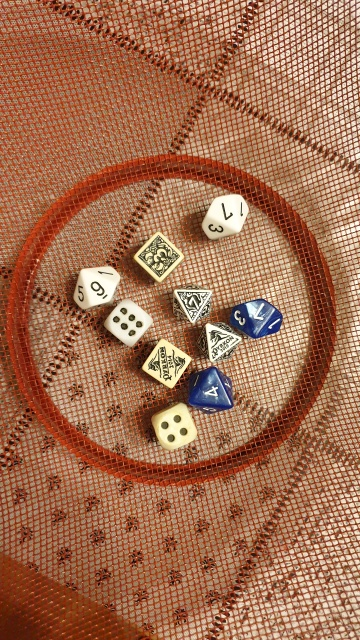d10-4: (185, 365, 240, 416)
d10-7: (196, 190, 254, 241), (231, 296, 285, 342)
d10-9: (65, 262, 122, 312)
d6-4: (150, 402, 198, 453)
d6-6: (102, 298, 152, 346)
d6p-1: (138, 336, 193, 392)
d6p-3: (136, 231, 183, 285)
d8p-1: (196, 317, 244, 368)
d8p-7: (168, 279, 213, 326)
